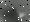person: (19, 10, 26, 21)
